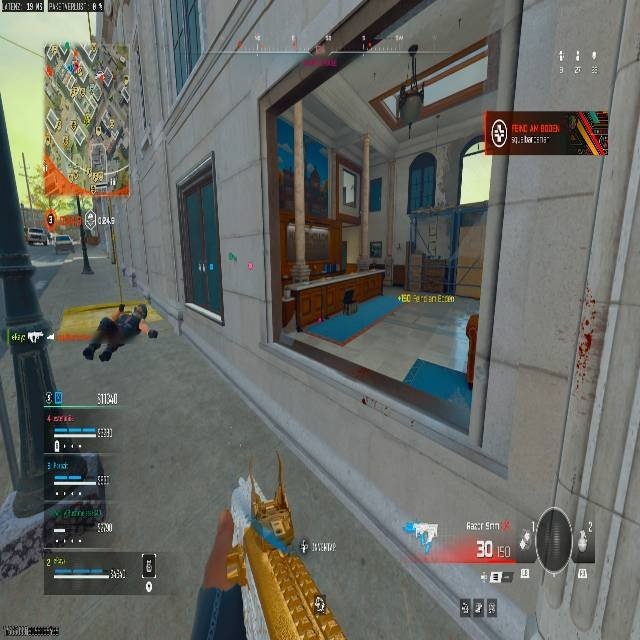head: (133, 303, 147, 320)
